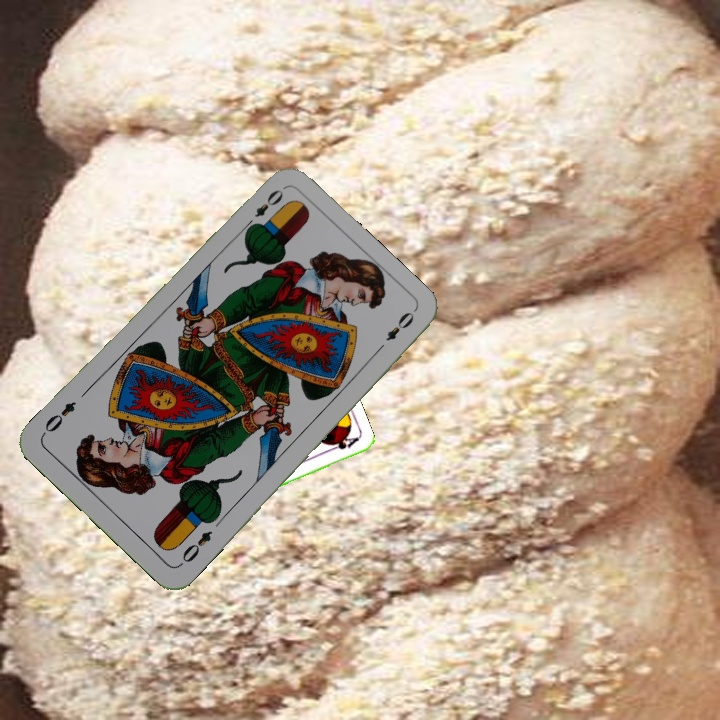EO: (240, 185, 286, 233), (175, 526, 215, 569)
